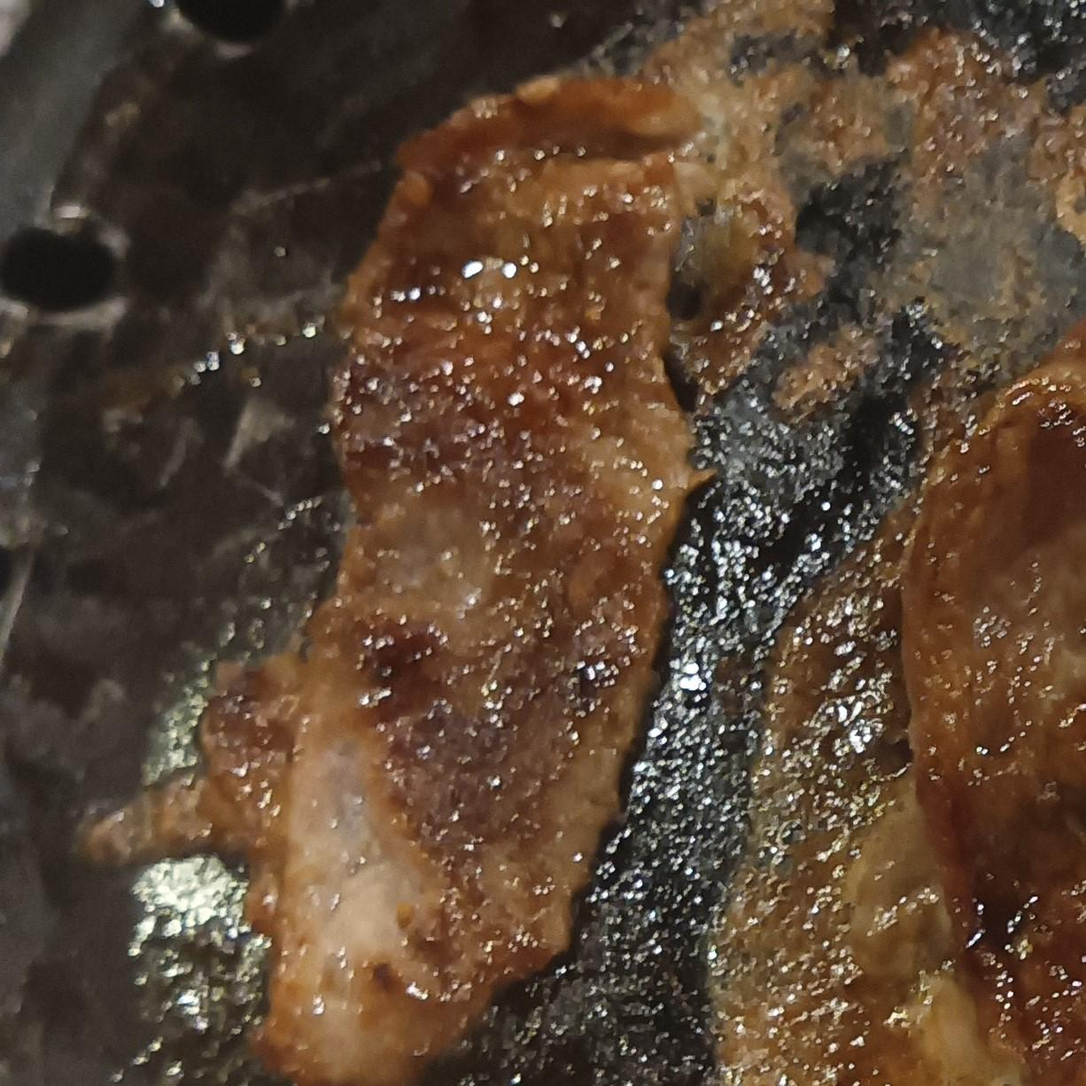Overcooked: (112, 75, 712, 1085), (898, 347, 1085, 1085)
